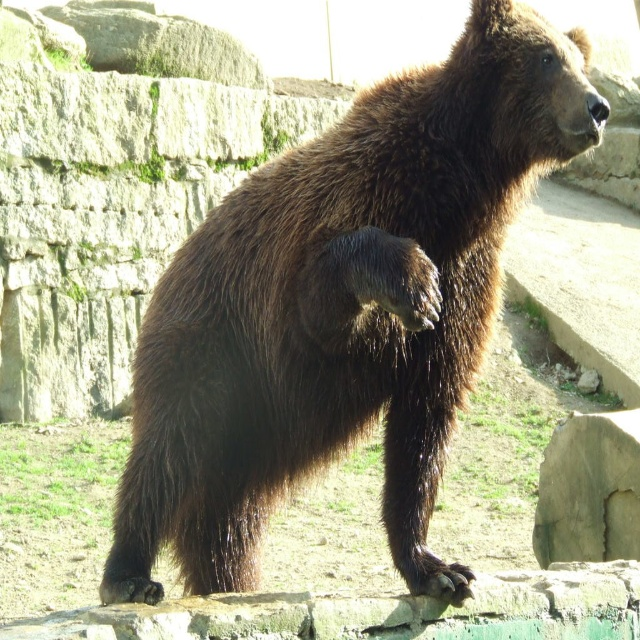Brown bear: (98, 0, 610, 608)
